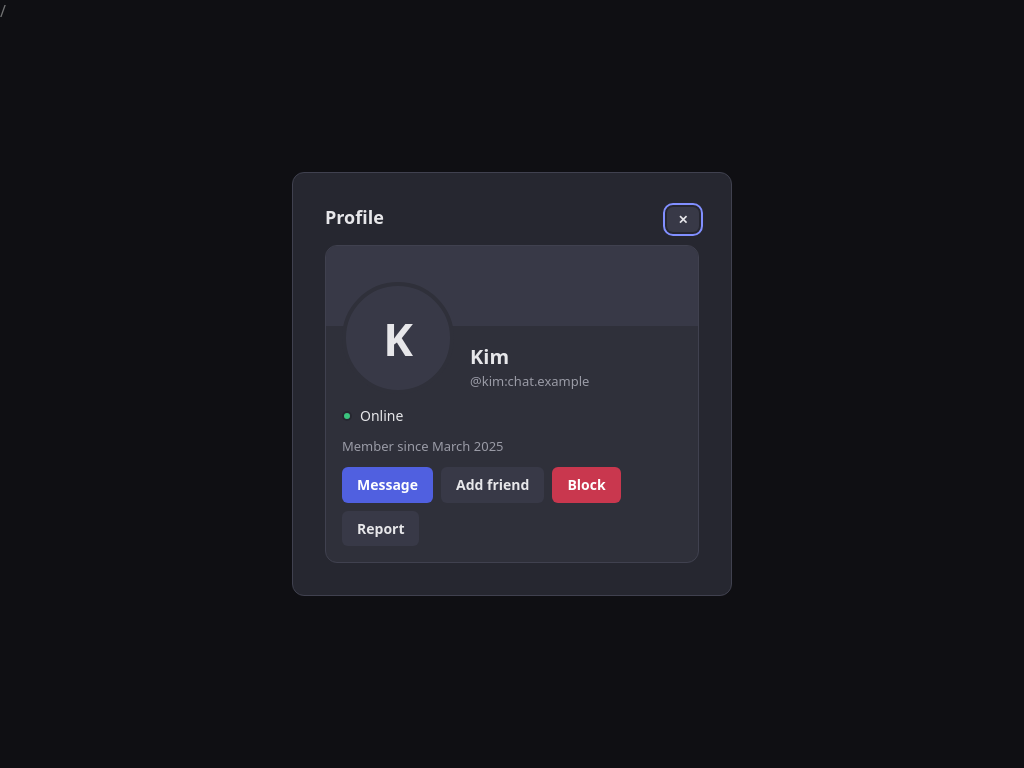
the profile dialog › someone else › reads the profile again after an action, so the buttons change
Click the button "Add friend" at (493, 485), box [441,467,544,502]
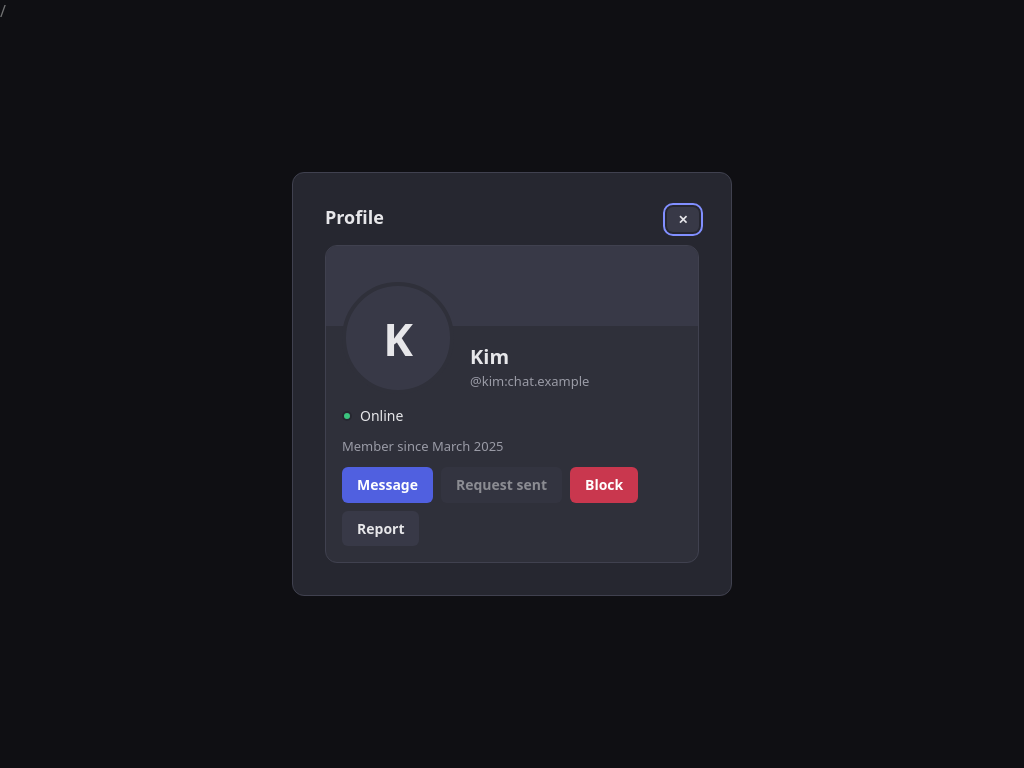
Expected: the button "Request sent" is disabled, [441,467,562,502]
Expected: the button "Add friend" is gone
